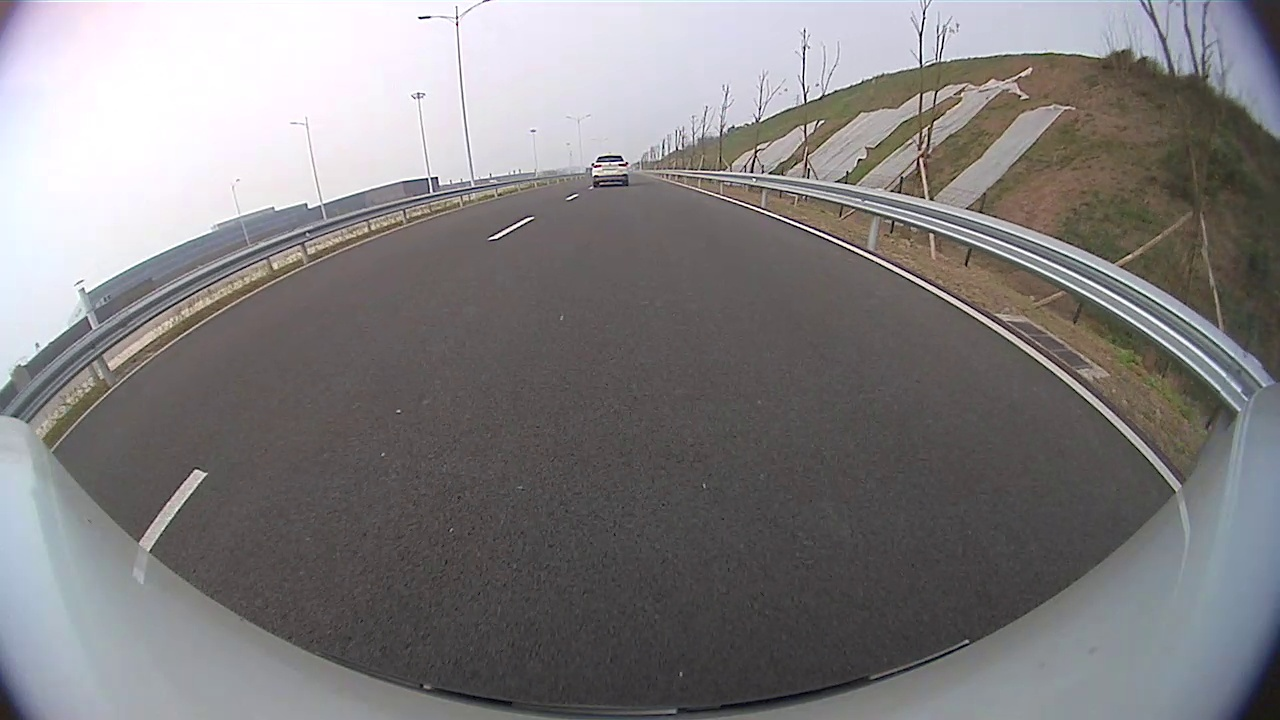car: (591, 154, 630, 188)
